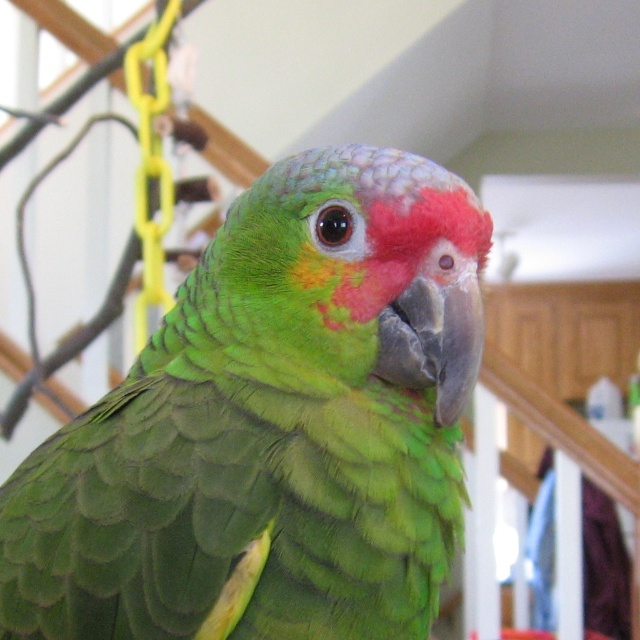Parrot: (0, 142, 493, 639)
